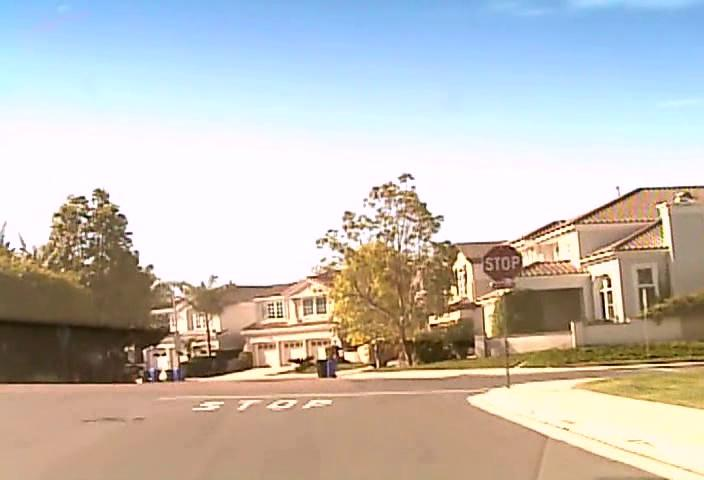stop: (482, 244, 523, 283)
